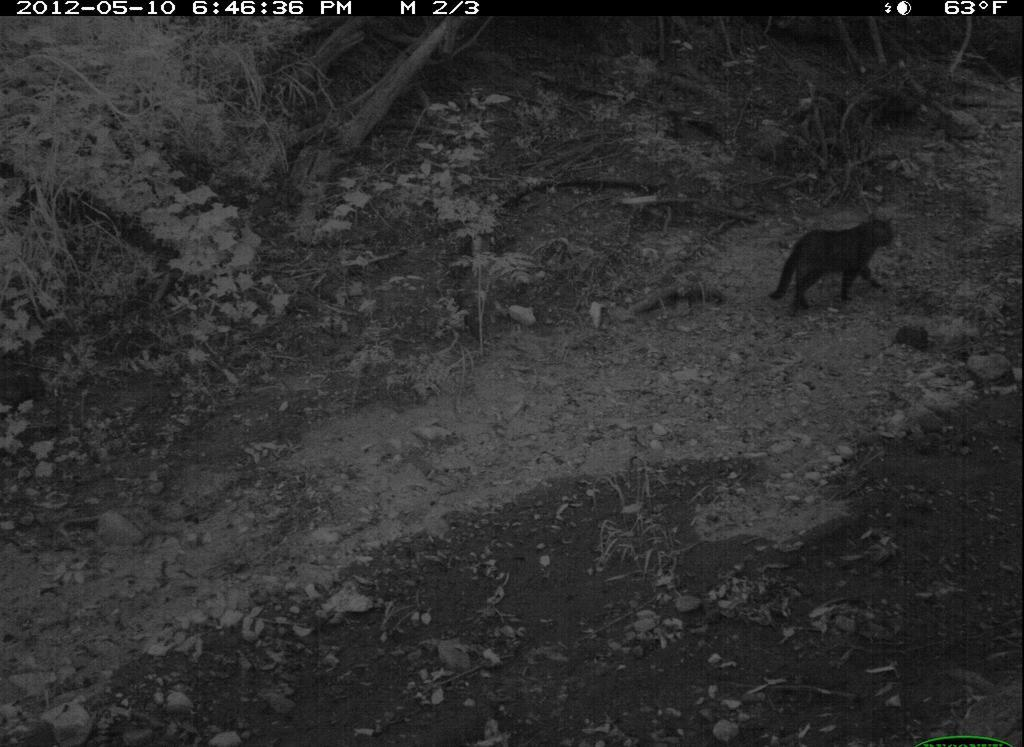cat: (756, 204, 905, 323)
